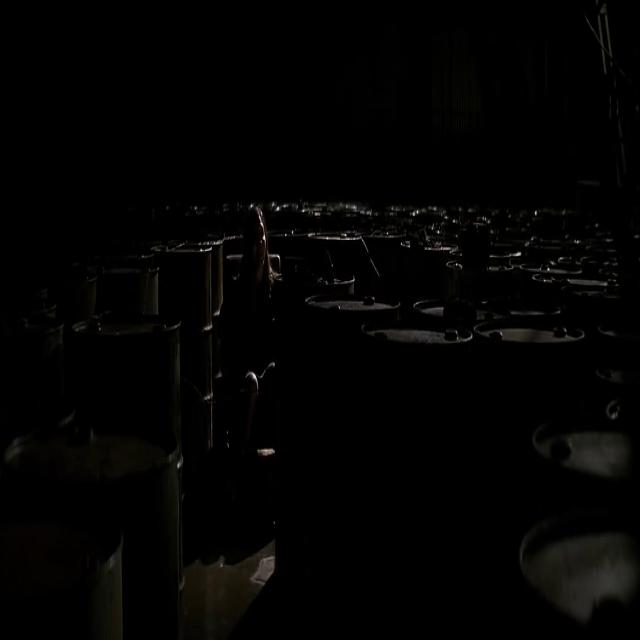People: (231, 157, 305, 584)
